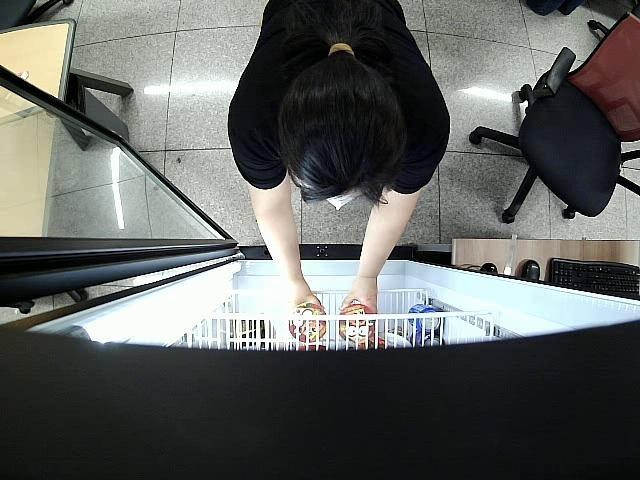06_nuguri_S: (286, 306, 329, 344), (338, 308, 377, 344)
